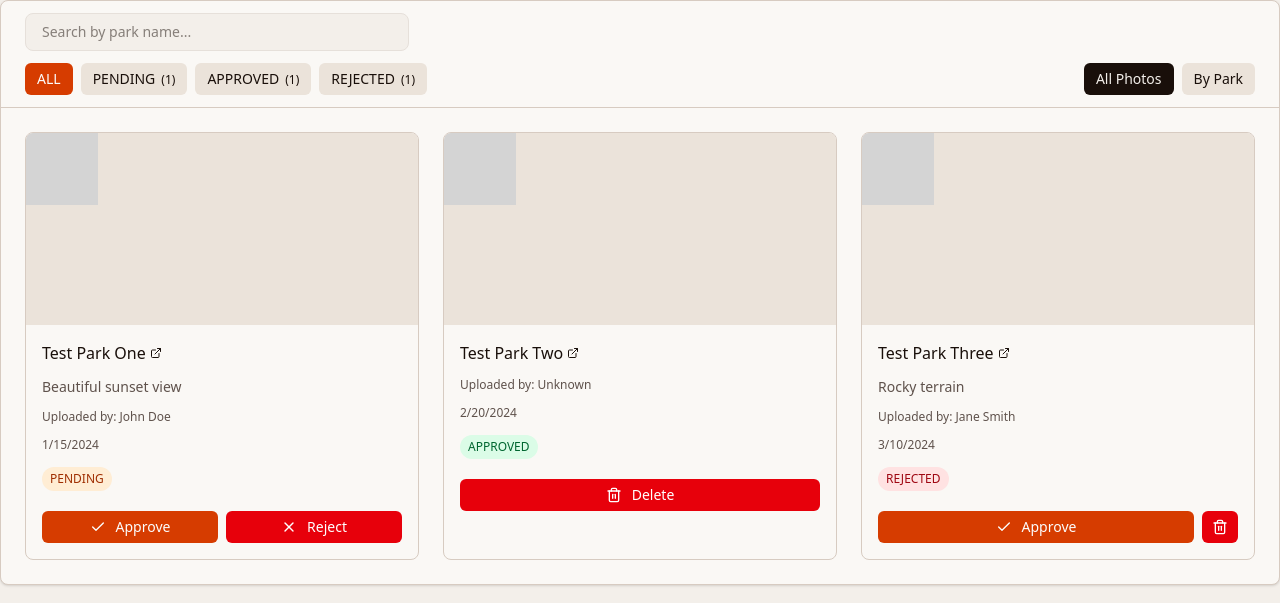
it: PhotoModerationTable › should filter photos by APPROVED status
Click APPROVED filter tab
Click the button "APPROVED(1)": click(253, 79) left=195, top=63, right=311, bottom=95
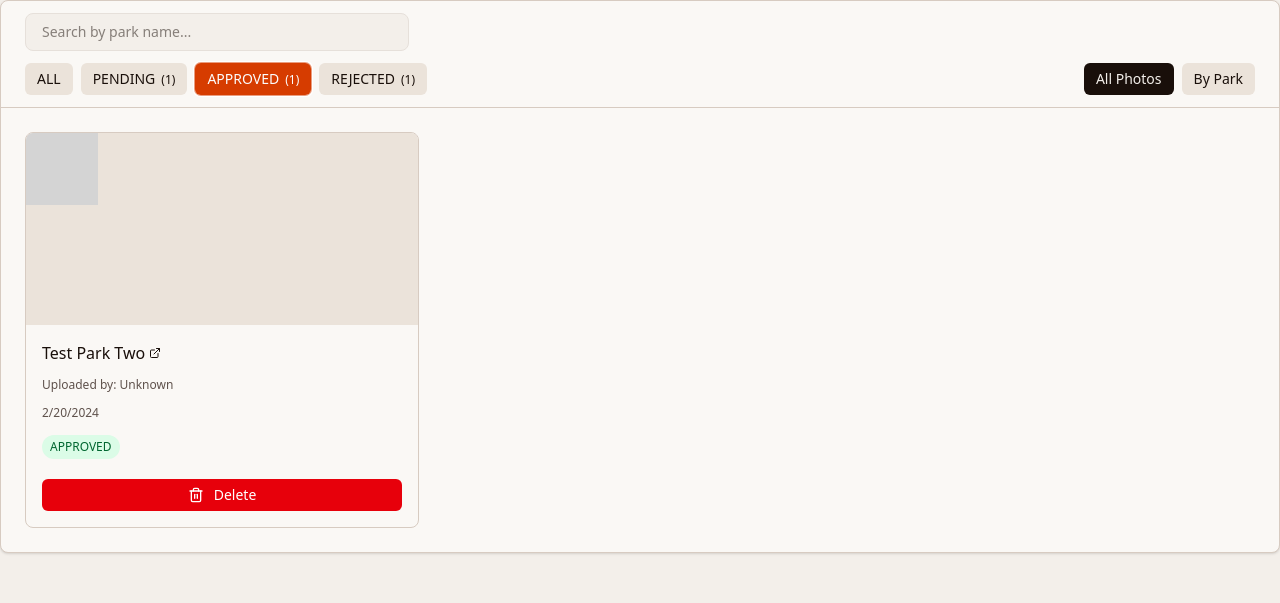
Expected: the link "Test Park Two" is shown, left=42, top=342, right=161, bottom=364
Now the link "Test Park One" is gone
Now the link "Test Park Three" is gone
